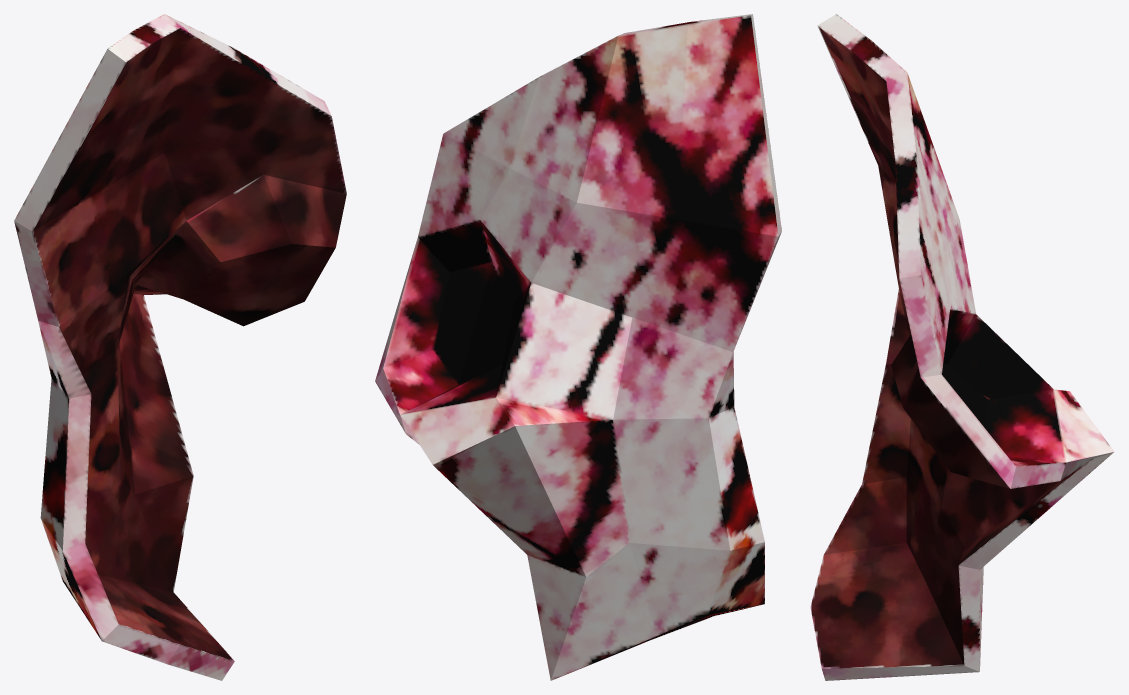
The model's file is TornSkull5.fbx.
3 views of the same model, side by side, from view 1: azimuth 30°, elevation 25°; view 2: azimuth 150°, elevation 25°; view 3: azimuth 270°, elevation 25° (orthographic). The views are drawn at different scales.
Parts seen in each view (by area): view 1: TornSkull5; view 2: TornSkull5; view 3: TornSkull5.
Part boxes in pixels (x1=…): TornSkull5: x1=14, y1=14, x2=346, y2=680; TornSkull5: x1=375, y1=14, x2=781, y2=680; TornSkull5: x1=810, y1=14, x2=1114, y2=680.
Size of the model in its own units: 326 by 592 by 264.
